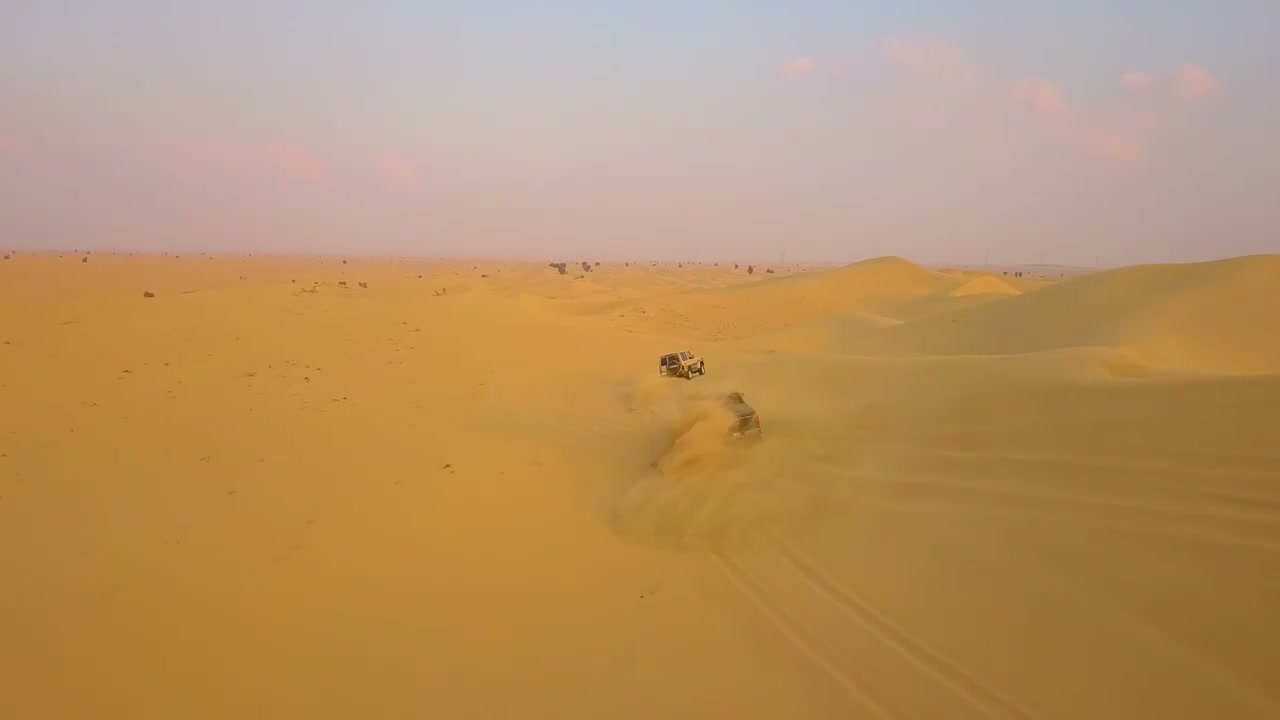vehicle_track: (712, 539, 1038, 719), (775, 543, 1034, 719), (874, 476, 1279, 554), (711, 550, 896, 719), (895, 474, 1276, 527), (885, 444, 1275, 479), (1199, 488, 1279, 510)
